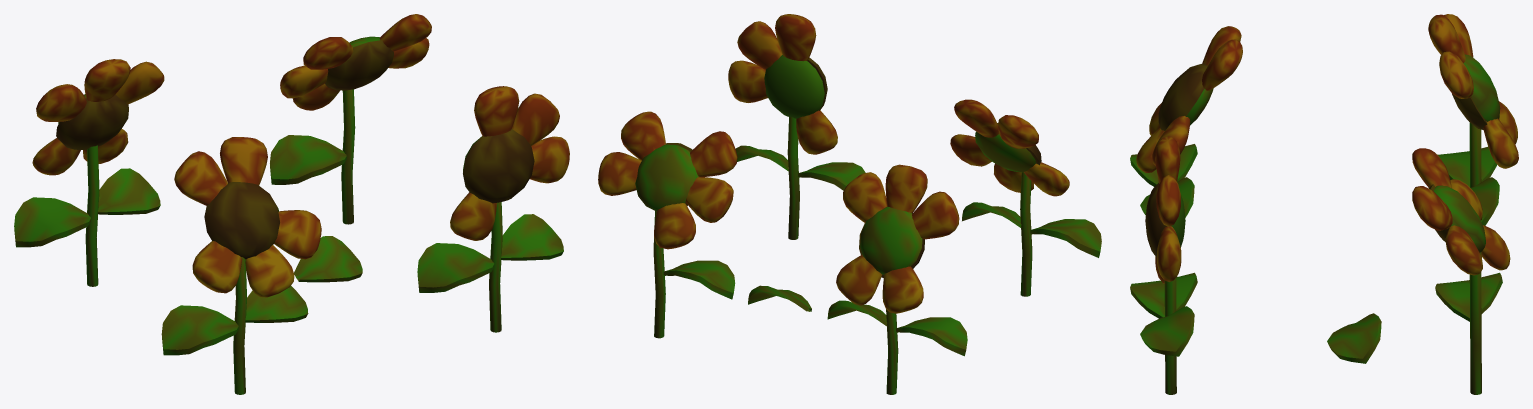
File: Farm_Crop_Daisy_Dead.fbx
3 views of the same model, side by side, from view 1: azimuth 30°, elevation 25°; view 2: azimuth 150°, elevation 25°; view 3: azimuth 270°, elevation 25° (orthographic). The views are drawn at different scales.
Visible parts, largest first — view 1: Farm_Crop_Daisy_Dead; view 2: Farm_Crop_Daisy_Dead; view 3: Farm_Crop_Daisy_Dead.
Boxes of the visible parts, x1=… form: Farm_Crop_Daisy_Dead: x1=14, y1=14, x2=569, y2=394; Farm_Crop_Daisy_Dead: x1=598, y1=14, x2=1101, y2=394; Farm_Crop_Daisy_Dead: x1=1130, y1=14, x2=1518, y2=394.
Bounding box in the file's own units: 159 × 90.75 × 127.
